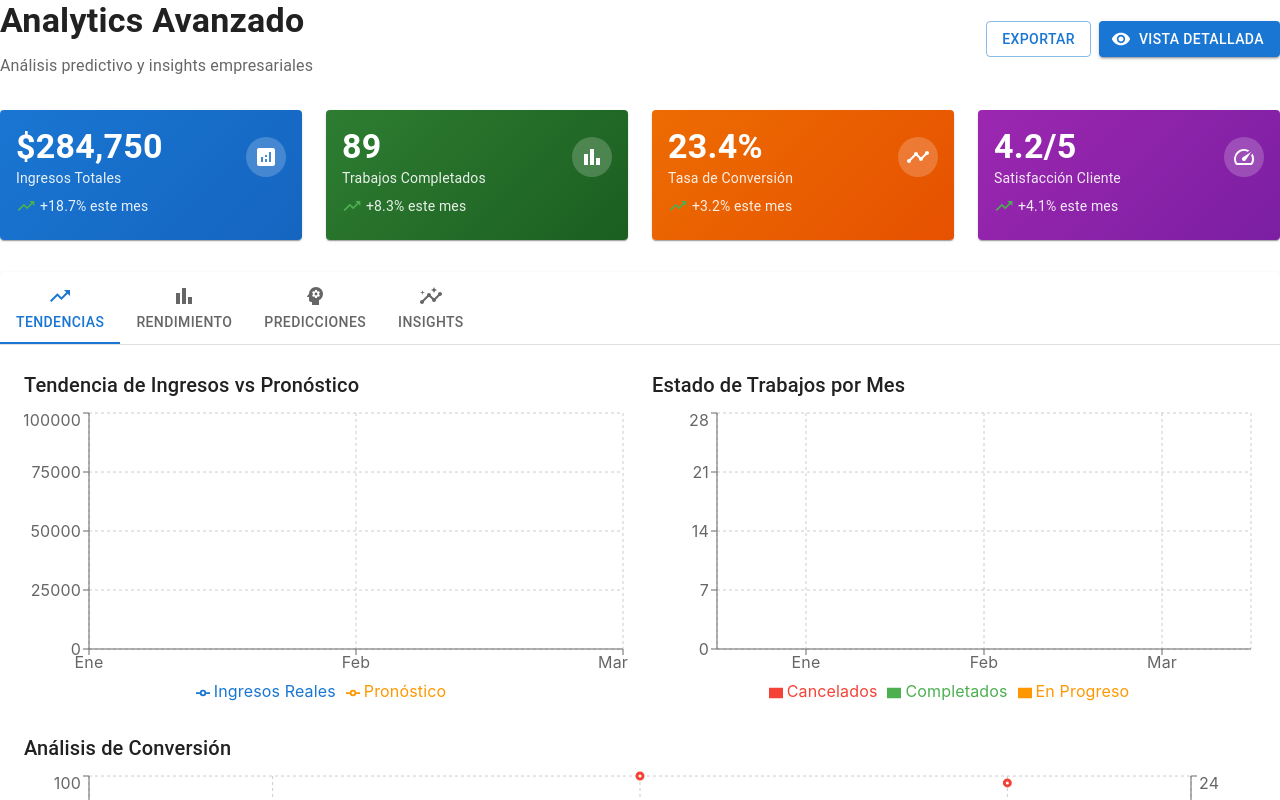
Scenario: AdvancedAnalytics Component › opens detail dialog
Click the button "Vista Detallada" at (1189, 39), box [1099, 21, 1279, 57]
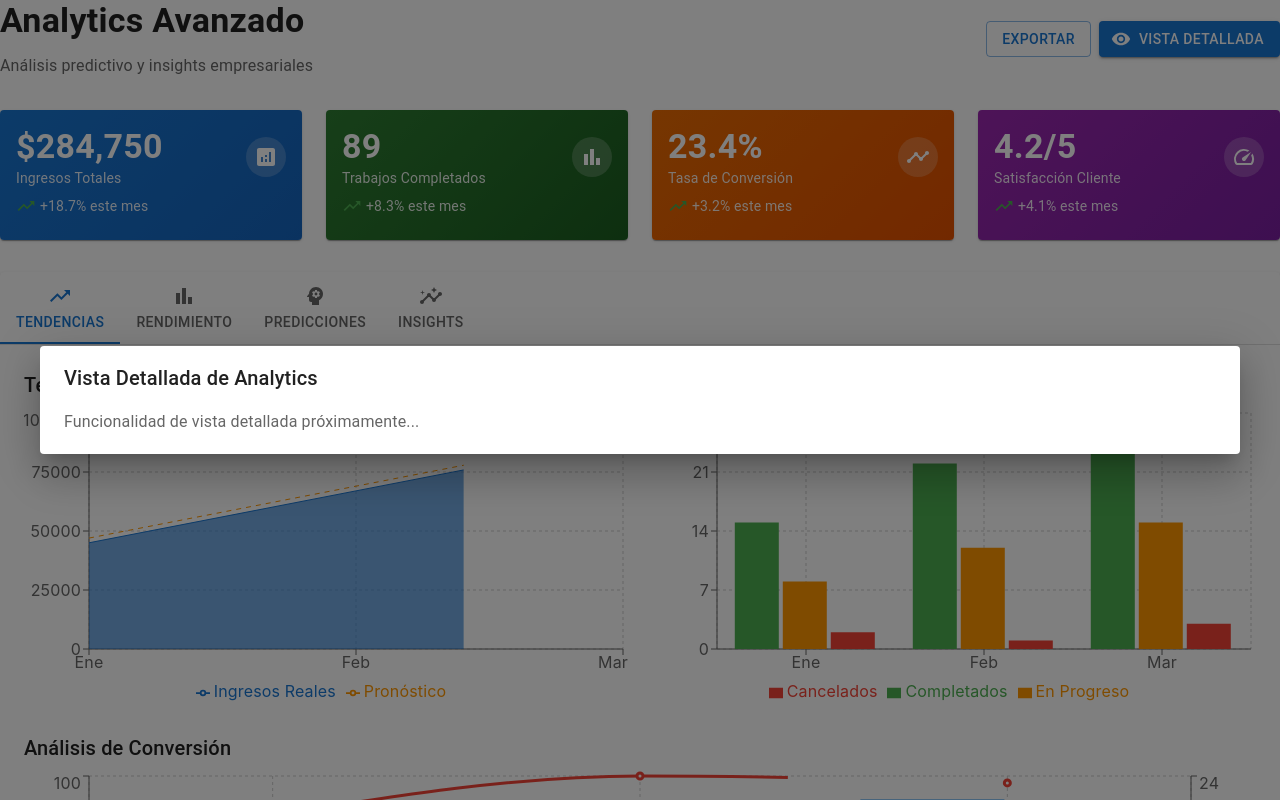
Now the heading "Vista Detallada de Analytics" is shown, box [64, 366, 318, 390]
